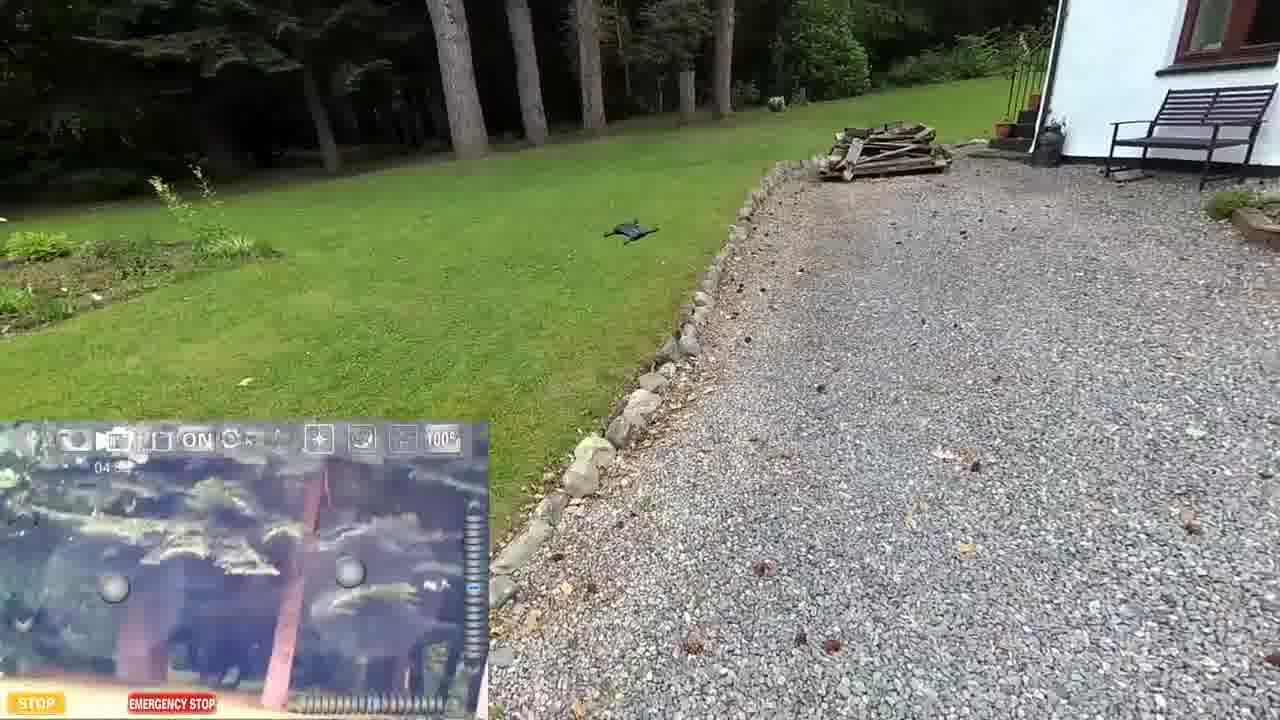drone: (597, 209, 670, 261)
